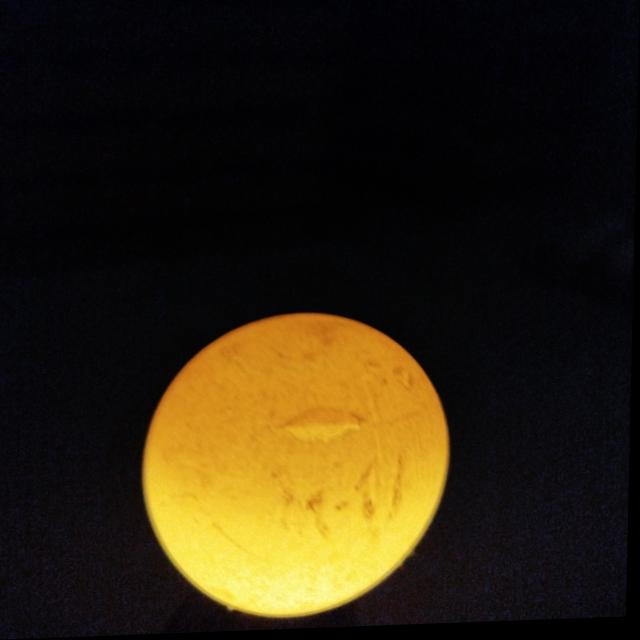Rachadura: (273, 409, 373, 447)
